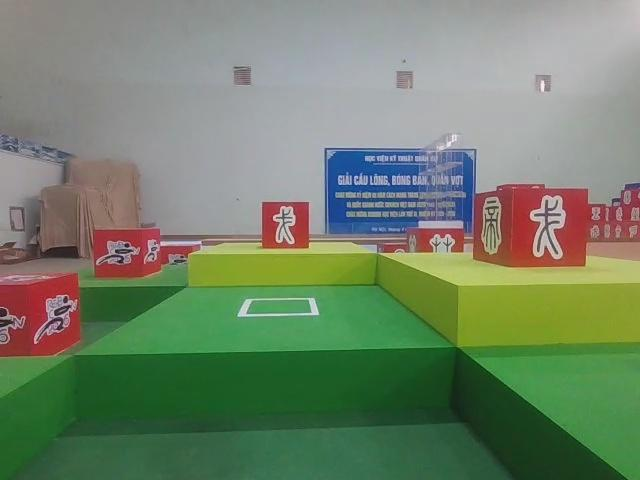R1: (0, 271, 85, 361), (92, 227, 161, 284)
R2 Fake: (473, 187, 588, 269), (261, 200, 309, 250)
